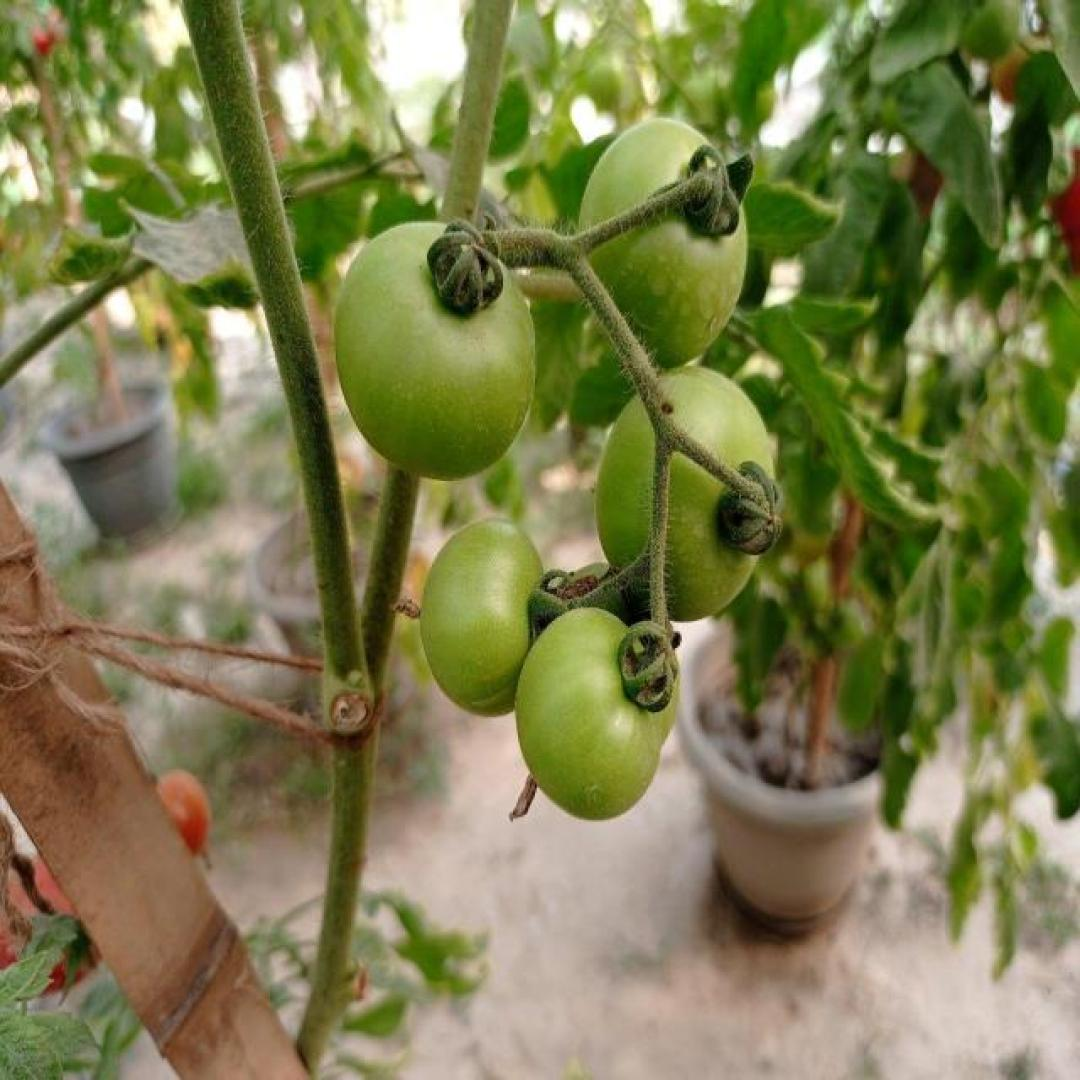mentah: (332, 218, 535, 479), (596, 363, 778, 619), (575, 120, 746, 371), (516, 606, 666, 823), (417, 511, 548, 717)
